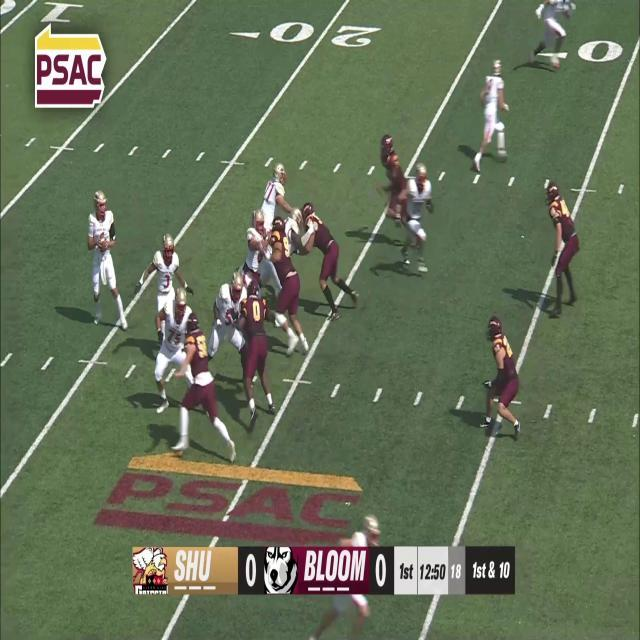football: (98, 235, 109, 255)
